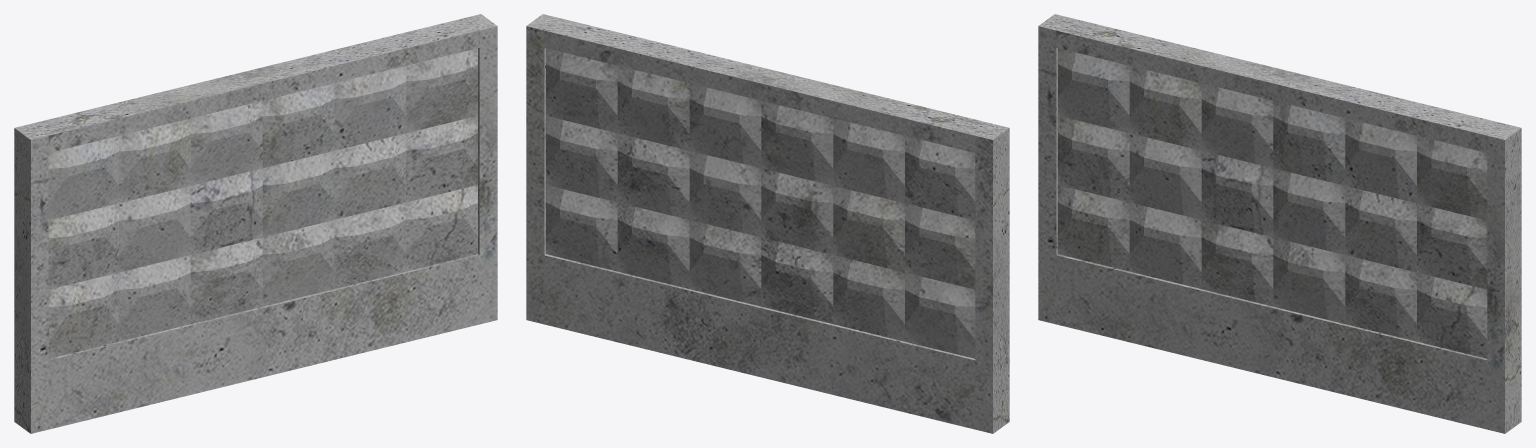
File: concrete_fence.obj
3 views of the same model, side by side, from view 1: azimuth 30°, elevation 25°; view 2: azimuth 150°, elevation 25°; view 3: azimuth 330°, elevation 25° (orthographic).
Parts seen in each view (by area): view 1: cube; view 2: cube; view 3: cube.
Part boxes in pixels (bbox=[...]): cube: bbox=[14, 14, 497, 433]; cube: bbox=[526, 14, 1009, 433]; cube: bbox=[1038, 14, 1521, 433].
Bounding box in the file's own units: 4.99 × 3 × 0.3844.
1 material, 1 textured.
